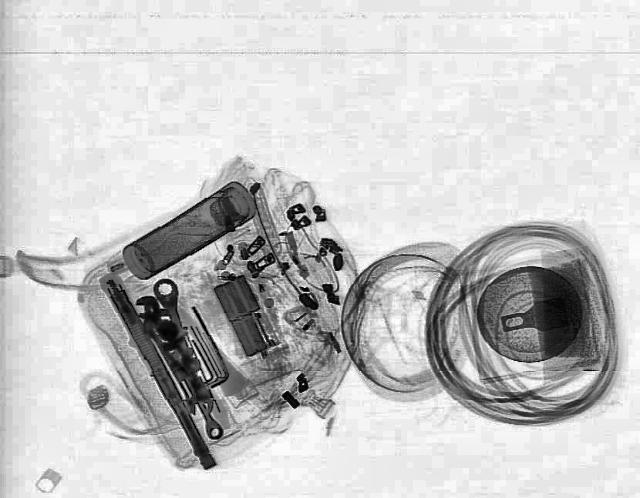Wrench: (124, 292, 233, 441)
